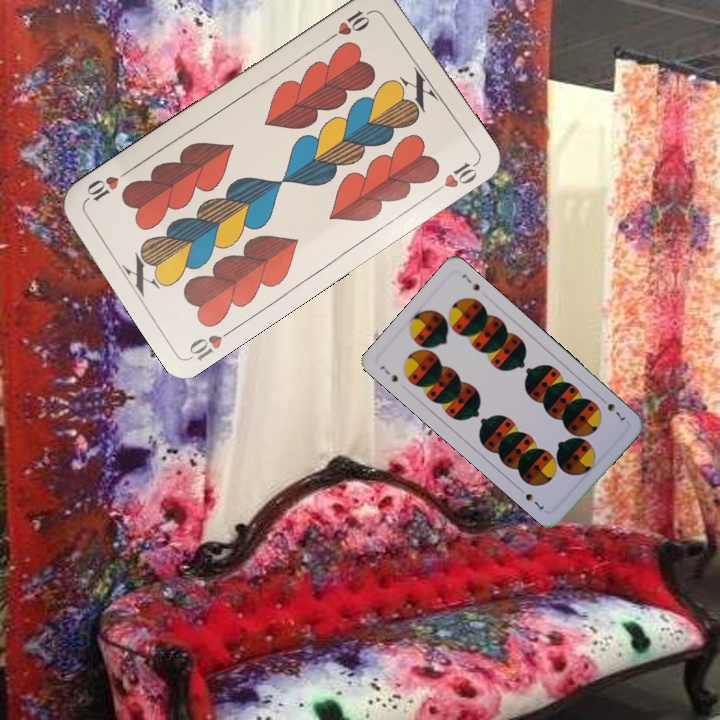H10: (185, 322, 239, 363), (324, 5, 377, 44)
S7: (596, 393, 628, 425), (376, 361, 400, 385)
